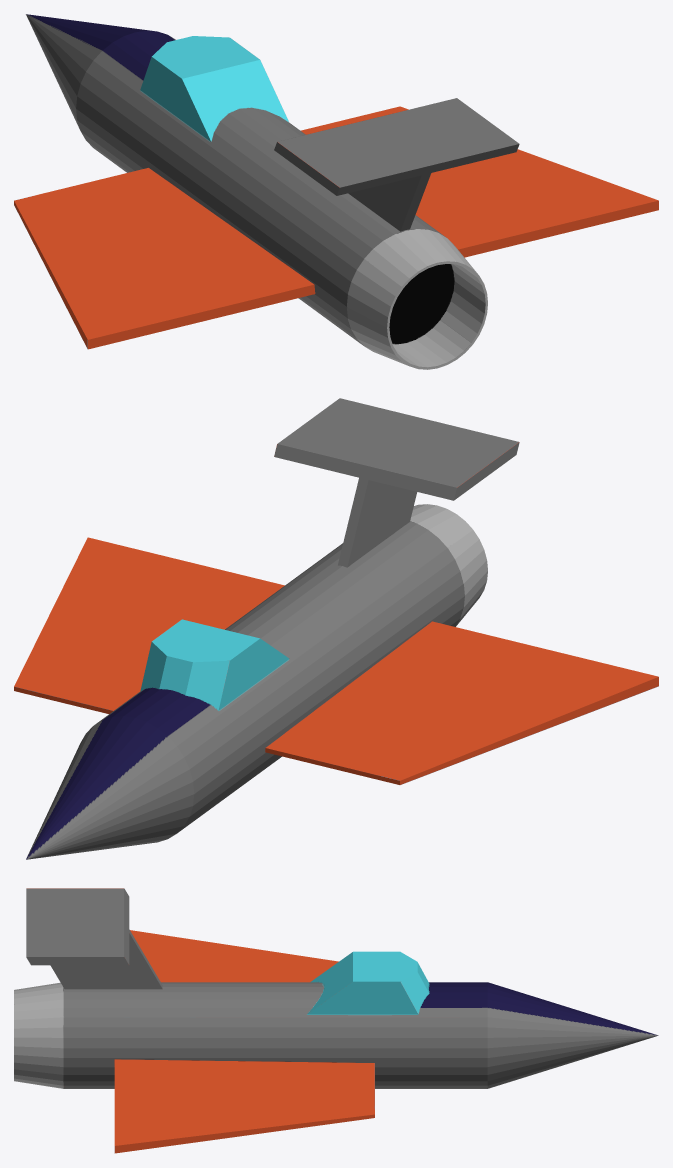
The model's file is enemy.obj.
The picture shows the model from 3 angles, top to bottom: view 1: azimuth 30°, elevation 25°; view 2: azimuth 150°, elevation 25°; view 3: azimuth 270°, elevation 25°; orthographic projection. The views are drawn at different scales.
Parts seen in each view (by area): view 1: 円柱; view 2: 円柱; view 3: 円柱.
Boxes of the visible parts, x1,y1,x2,y2 form: 円柱: (14, 14, 658, 369); 円柱: (14, 398, 658, 859); 円柱: (14, 888, 658, 1153).
Bounding box in the file's own units: 4.39 × 1.51 × 5.48.
1 material, 1 textured.
